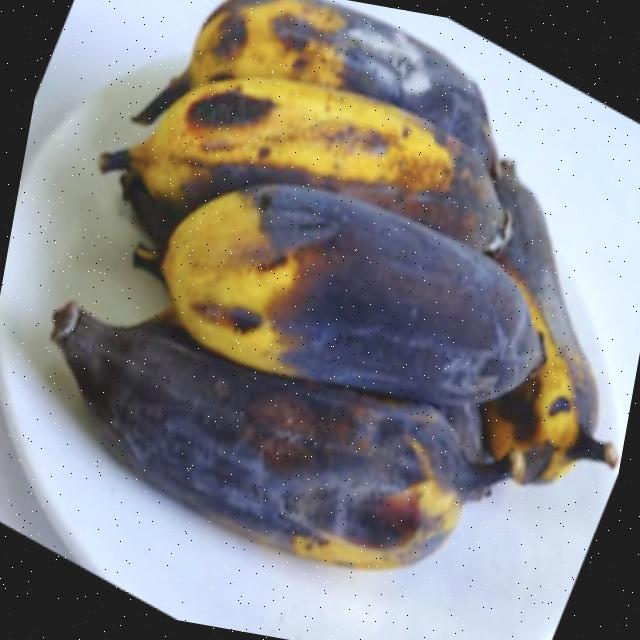rotten banana: (0, 299, 537, 614), (58, 0, 508, 294), (106, 157, 563, 441)
